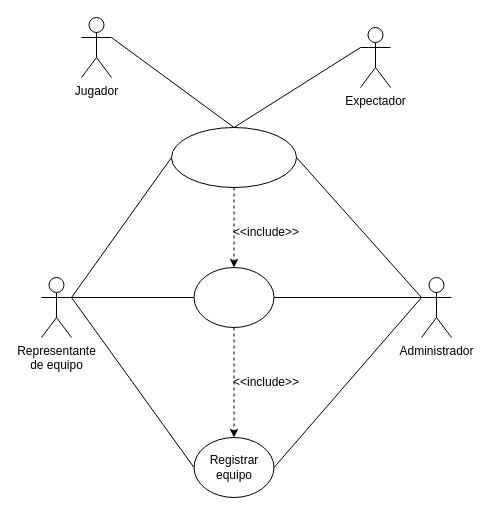
This 491x515 diagram has some shape labels left out. The shapes that lost their labels are listed below. From the top down, each one's box as (x1, y1, x2, y2) in pixels, then its label:
(170, 126, 296, 188): Consultar lista de equipos y jugadores
(193, 266, 274, 328): Añadir jugadores a equipo
